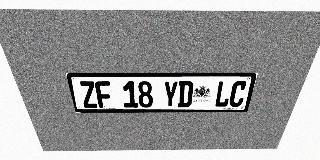1: (122, 81, 138, 108)
8: (137, 81, 153, 107)
C: (228, 81, 248, 107)
D: (177, 81, 194, 107)
F: (94, 81, 113, 108)
L: (214, 81, 233, 107)
Y: (163, 81, 178, 107)
Z: (78, 81, 98, 108)
